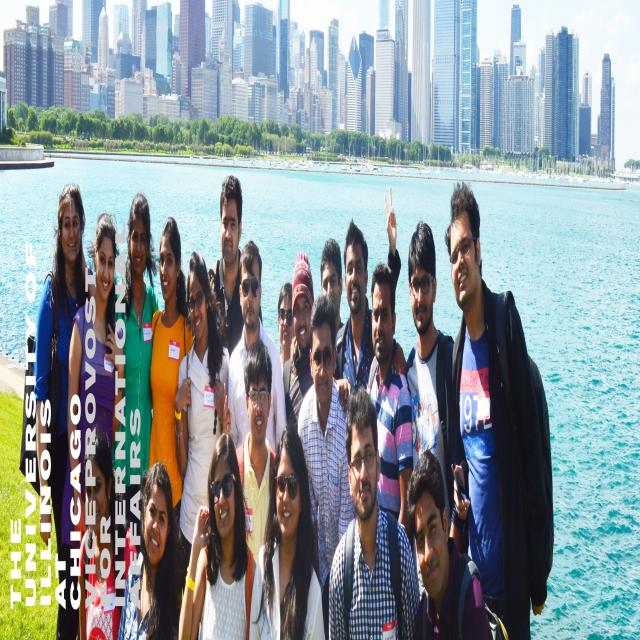body: (443, 180, 555, 640), (18, 182, 97, 639), (60, 212, 126, 640), (328, 386, 422, 640), (405, 218, 461, 610), (297, 290, 357, 640), (174, 250, 230, 608), (405, 446, 508, 640), (248, 420, 325, 640), (178, 432, 257, 640), (110, 192, 160, 518), (148, 216, 197, 519), (333, 215, 402, 420), (222, 241, 287, 455), (365, 261, 413, 543), (77, 424, 138, 640), (282, 250, 349, 443), (116, 459, 187, 640), (205, 174, 263, 362), (235, 340, 277, 568), (332, 214, 373, 397), (277, 281, 295, 379), (48, 150, 51, 161)
